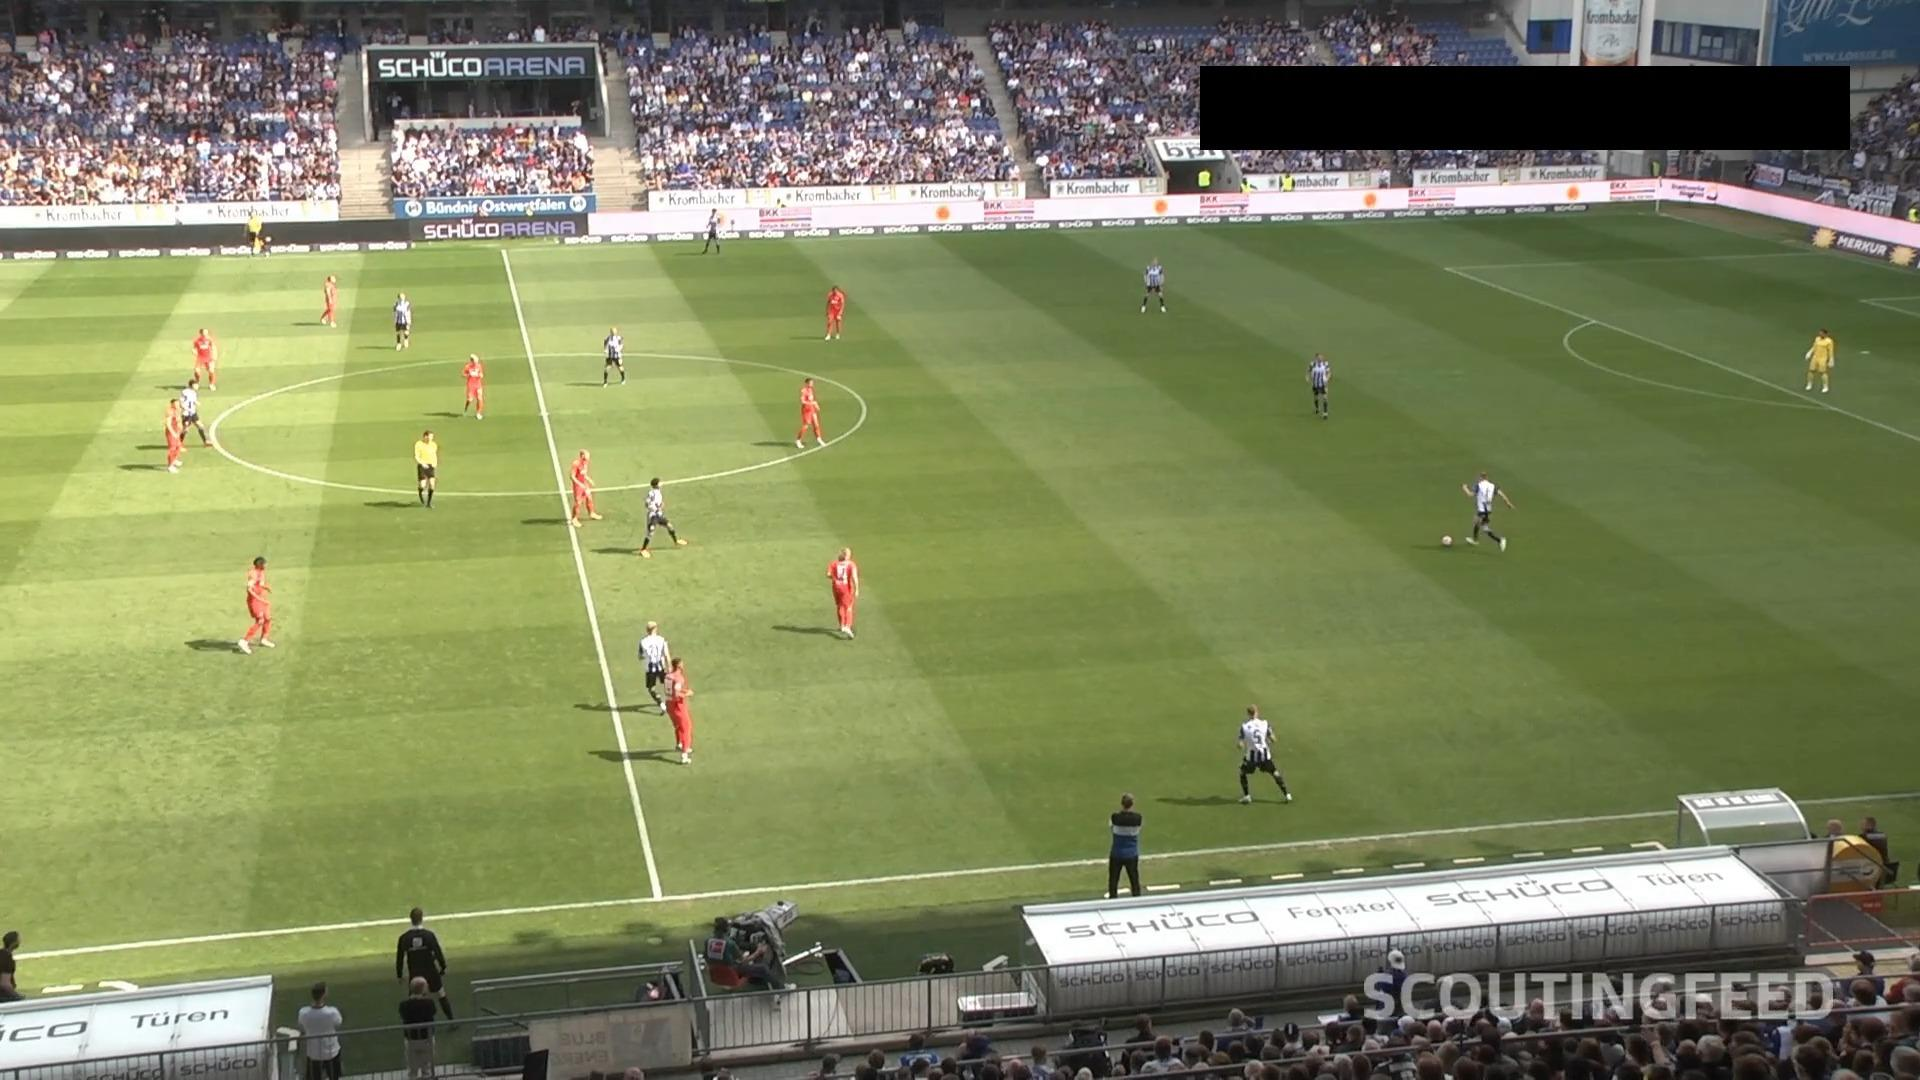ball: (1441, 534, 1453, 547)
